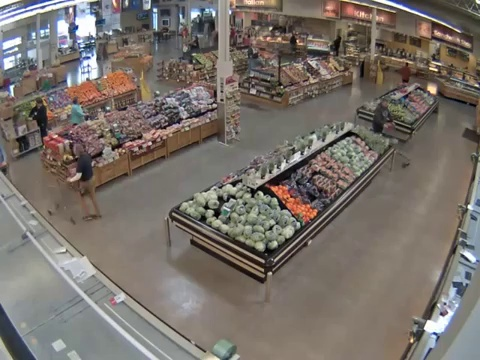face: (383, 100, 389, 107)
